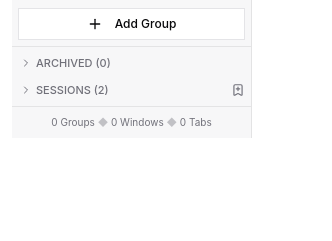
Test case: SidePanel — automatic backups are not sessions › only the literal true hides a session
This screenshot has width=332, height=241.
Click the button "SESSIONS (2)" at (118, 90), box [12,80,225,100]
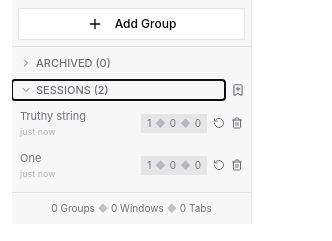
Expected: the text "Truthy string" is shown, [20,109,86,123]
Expected: the text "One" is shown, [20,151,41,165]
